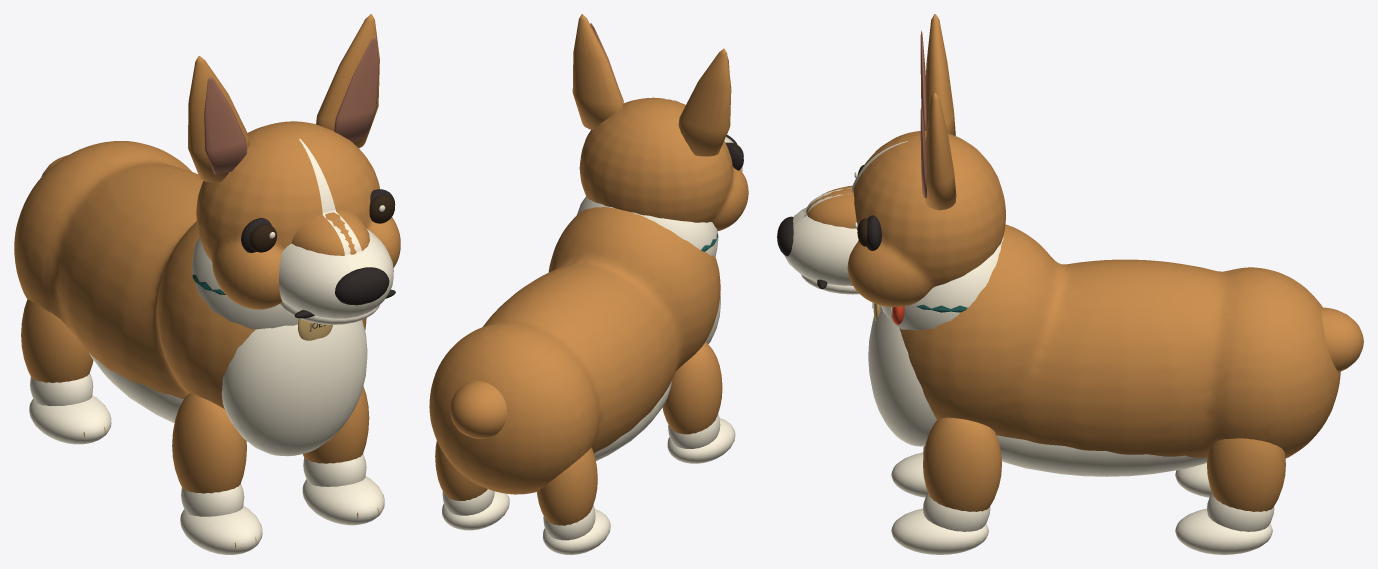
File: joey.glb
3 views of the same model, side by side, from view 1: azimuth 30°, elevation 25°; view 2: azimuth 150°, elevation 25°; view 3: azimuth 270°, elevation 25° (orthographic). The views are drawn at different scales.
Visible parts, largest first — view 1: Sculpted golden coat, Sculpted foxlike head, Broad white chest bib, Golden short leg, Tapered muzzle, Golden short leg.001, White paw.002, White paw, White paw.001, Inset ear, Inset ear.001, White neck ruff (+14 smaller); view 2: Sculpted golden coat, Sculpted foxlike head, Golden short leg, Large upright ear, Large upright ear.001, Golden short leg.001, Small bobtail, White neck ruff, Golden short leg.003, White paw.001, White paw, White paw.003 (+4 smaller); view 3: Sculpted golden coat, Sculpted foxlike head, Golden short leg.002, Broad white chest bib, Golden short leg.003, White underbelly, Tapered muzzle, White neck ruff, Large upright ear.001, White paw.003, White paw.002, Large upright ear (+6 smaller).
Part boxes in pixels (<box>): Sculpted golden coat: <box>14,141,366,408</box>; Sculpted foxlike head: <box>196,121,400,309</box>; Broad white chest bib: <box>221,320,367,456</box>; Golden short leg: <box>172,393,246,493</box>; Tapered muzzle: <box>279,229,393,318</box>; Golden short leg.001: <box>21,299,93,382</box>; White paw.002: <box>302,476,384,525</box>; White paw: <box>180,506,262,554</box>; White paw.001: <box>29,395,111,444</box>; Inset ear: <box>204,75,246,174</box>; Inset ear.001: <box>334,35,378,142</box>; White neck ruff: <box>192,237,298,329</box>; Sculpted golden coat: <box>429,207,720,494</box>; Sculpted foxlike head: <box>579,97,748,230</box>; Golden short leg: <box>662,342,722,434</box>; Large upright ear: <box>678,48,731,156</box>; Large upright ear.001: <box>572,14,623,130</box>; Golden short leg.001: <box>537,447,597,525</box>; Small bobtail: <box>450,381,507,438</box>; White neck ruff: <box>577,196,718,257</box>; Golden short leg.003: <box>435,441,487,500</box>; White paw.001: <box>542,509,610,554</box>; White paw: <box>667,418,735,463</box>; White paw.003: <box>442,491,509,530</box>; Sculpted golden coat: <box>899,224,1340,458</box>; Sculpted foxlike head: <box>847,130,1005,307</box>; Golden short leg.002: <box>923,417,1001,511</box>; Broad white chest bib: <box>868,307,936,446</box>; Golden short leg.003: <box>1207,438,1285,511</box>; White underbelly: <box>996,435,1207,476</box>; Tapered muzzle: <box>784,207,858,285</box>; White neck ruff: <box>881,237,1003,330</box>; Large upright ear.001: <box>925,93,956,210</box>; White paw.003: <box>1175,508,1272,554</box>; White paw.002: <box>891,508,988,554</box>; Large upright ear: <box>925,14,955,135</box>.
Size of the model in its own units: 0.8868 by 2.22 by 2.52.
